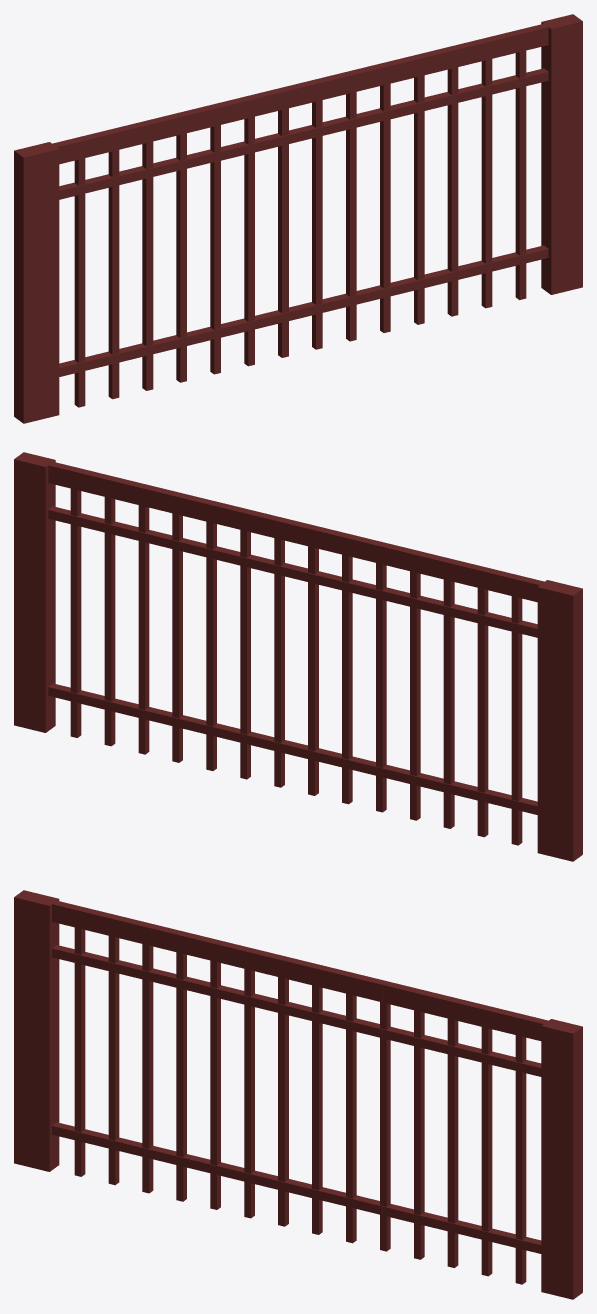
The model's file is rejacercamonoblock.fbx.
The picture shows the model from 3 angles, top to bottom: view 1: azimuth 30°, elevation 25°; view 2: azimuth 150°, elevation 25°; view 3: azimuth 330°, elevation 25°; orthographic projection.
Visible parts, largest first — view 1: fence3_02, fence3_04, fence3_03; view 2: fence3_02, fence3_04, fence3_03; view 3: fence3_02, fence3_04, fence3_03.
Part boxes in pixels (box(x1,y1,x2,y2)): fence3_02: box(14, 104, 220, 423); fence3_04: box(383, 14, 582, 324); fence3_03: box(213, 63, 390, 366); fence3_02: box(376, 542, 582, 861); fence3_04: box(14, 452, 213, 762); fence3_03: box(206, 501, 383, 804); fence3_02: box(14, 890, 220, 1209); fence3_04: box(383, 981, 582, 1299); fence3_03: box(213, 940, 390, 1251).
Size of the model in its own units: 330 by 150 by 10.
